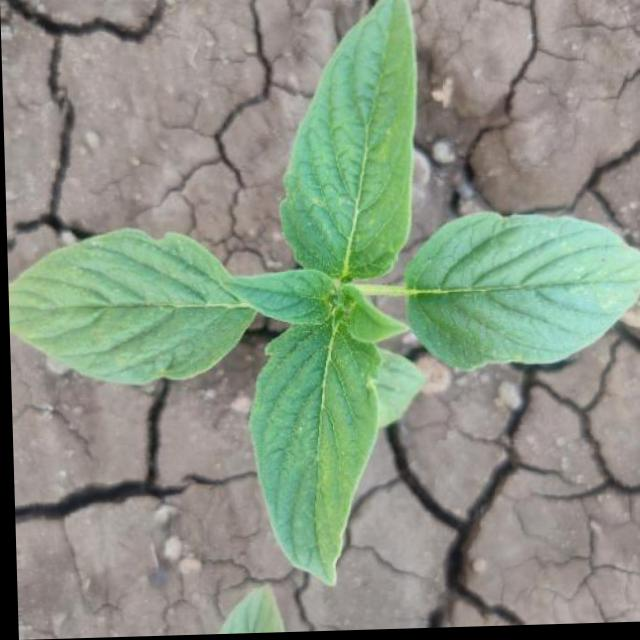crop: (4, 0, 640, 578)
